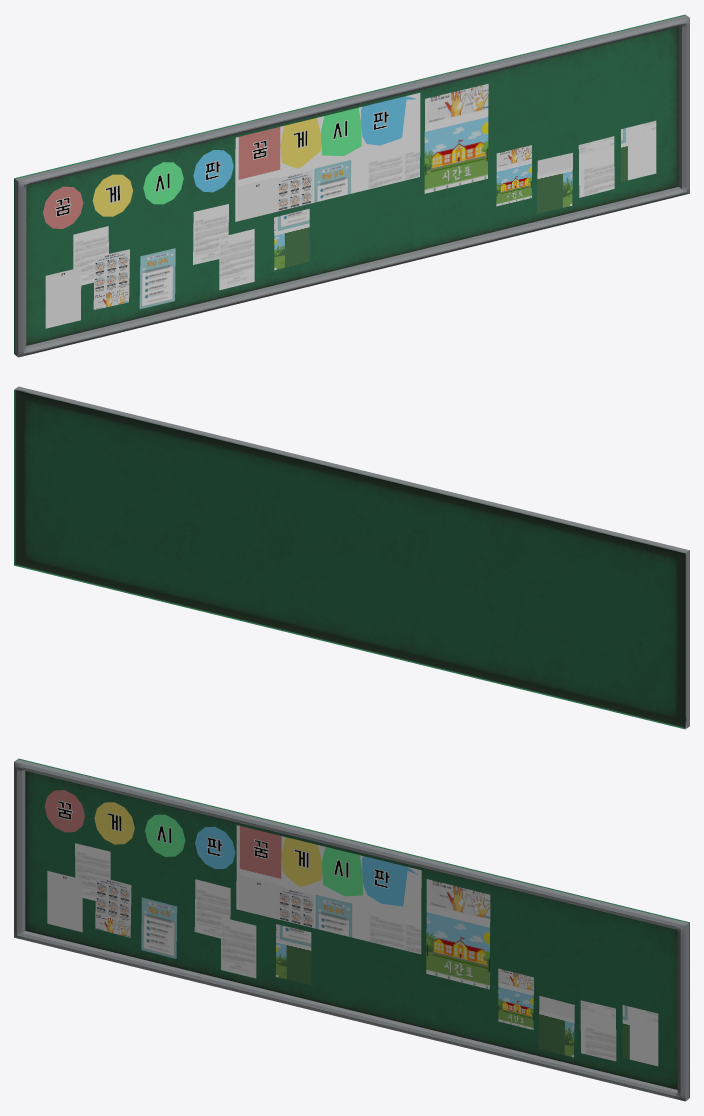
Rendered from classroom_board_0424.fbx.
3 views of the same model, one above another, from view 1: azimuth 30°, elevation 25°; view 2: azimuth 150°, elevation 25°; view 3: azimuth 330°, elevation 25° (orthographic).
Parts seen in each view (by area): view 1: Board_classroom_GEO, classroom_posters_GEO; view 2: Board_classroom_GEO; view 3: Board_classroom_GEO, classroom_posters_GEO.
Boxes of the visible parts, left/top/right/bottom form: Board_classroom_GEO: left=14, top=14, right=689, bottom=357; classroom_posters_GEO: left=43, top=84, right=656, bottom=328; Board_classroom_GEO: left=14, top=386, right=689, bottom=729; Board_classroom_GEO: left=14, top=758, right=689, bottom=1101; classroom_posters_GEO: left=44, top=790, right=658, bottom=1066.
Size of the model in its own units: 89.78 by 22.48 by 1.29.
2 materials, 2 textured.
